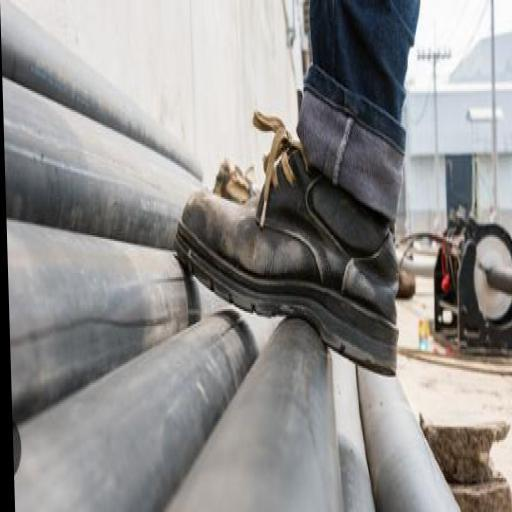safety_boots: (176, 186, 404, 382)
